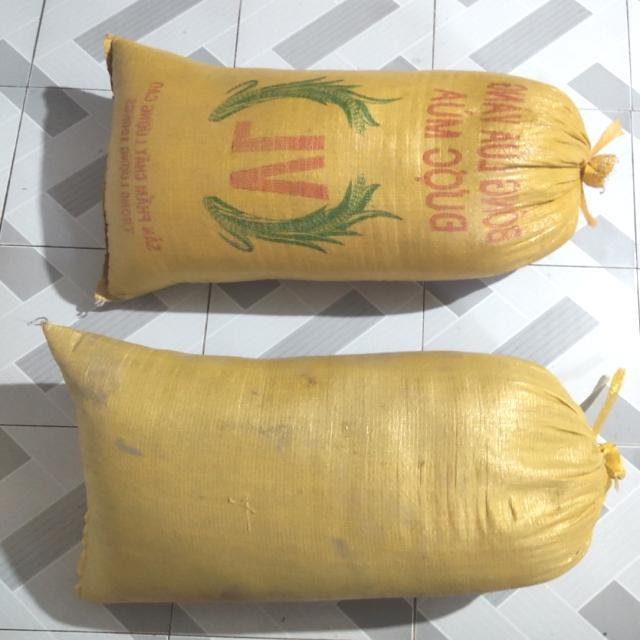gunny_bag: (41, 324, 613, 604), (95, 34, 622, 301)
